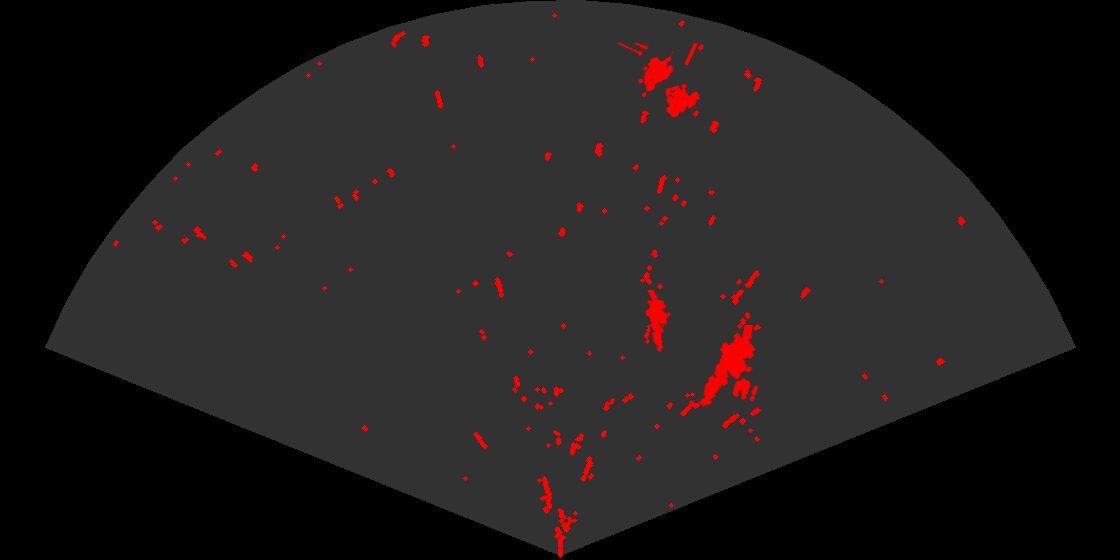ball: (731, 376, 760, 403)
cage: (616, 43, 702, 119)
frogman: (698, 325, 757, 409), (644, 290, 672, 354)
